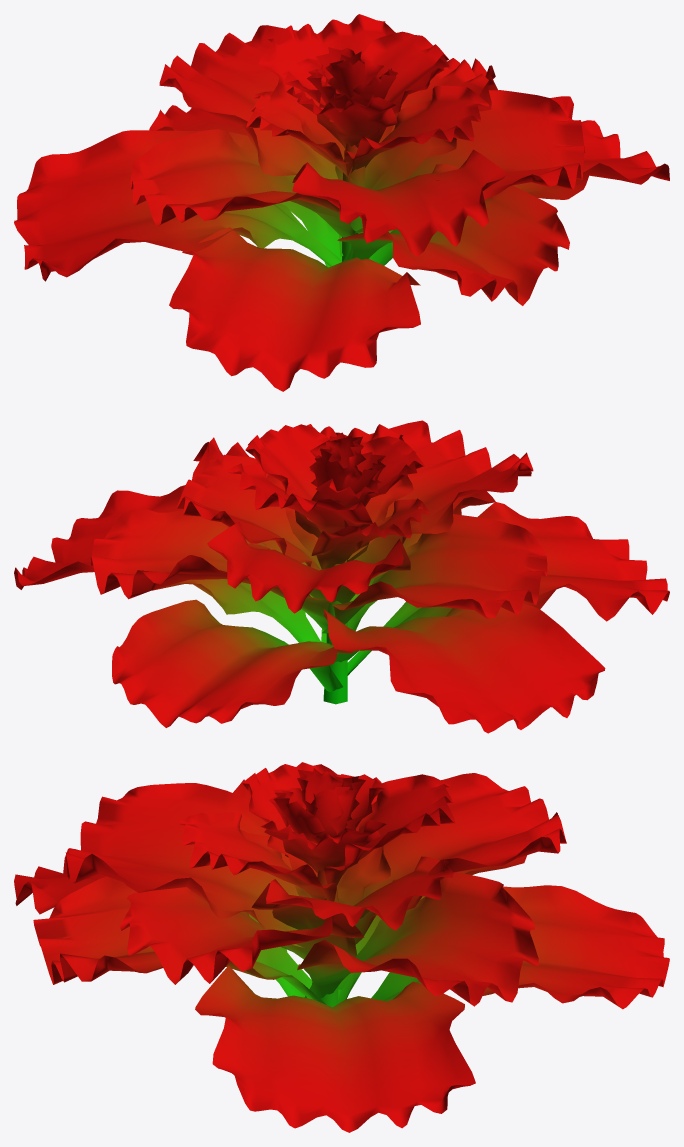
File: White Ornamental Kale_LOD0_Var4_ue3ldcgja.fbx
3 views of the same model, one above another, from view 1: azimuth 30°, elevation 25°; view 2: azimuth 150°, elevation 25°; view 3: azimuth 270°, elevation 25° (orthographic). The views are drawn at different scales.
Visible parts, largest first — view 1: _e404_Var4_LOD0; view 2: _e404_Var4_LOD0; view 3: _e404_Var4_LOD0.
Boxes of the visible parts, x1,y1,x2,y2 form: _e404_Var4_LOD0: (14,14,669,391); _e404_Var4_LOD0: (14,420,669,733); _e404_Var4_LOD0: (14,762,669,1132).
Bounding box in the file's own units: 78.46 × 33.87 × 70.62.
